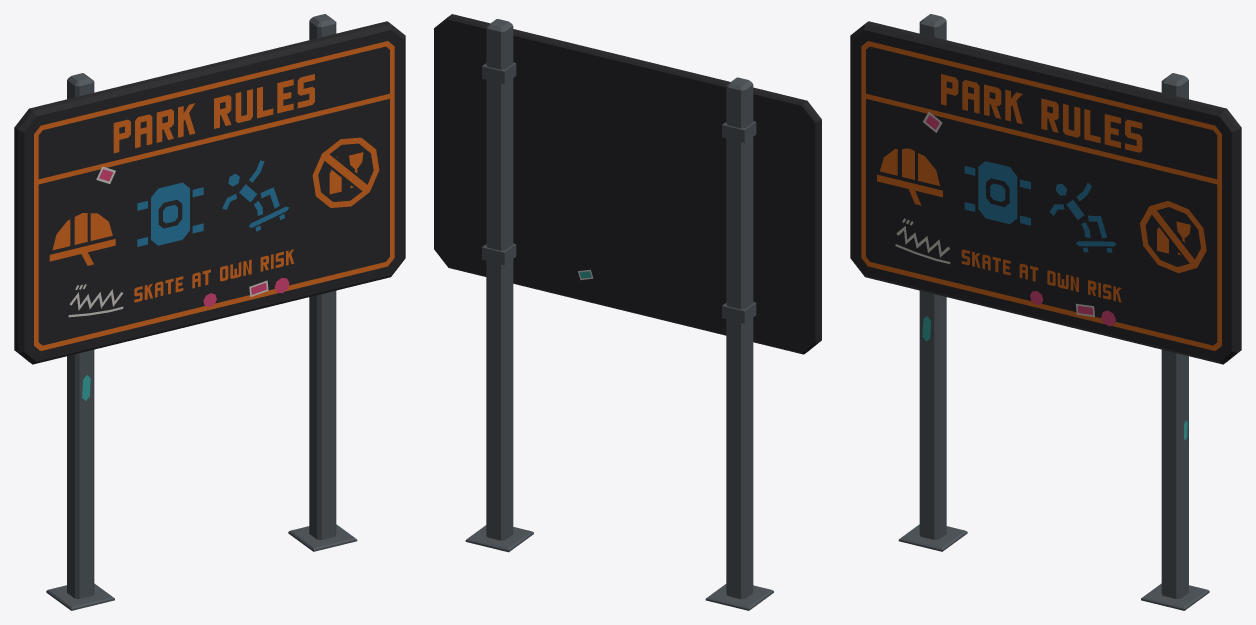
File: skatepark-rules-board-e16034.glb
3 renders of one model, left to right at view 1: azimuth 30°, elevation 25°; view 2: azimuth 150°, elevation 25°; view 3: azimuth 330°, elevation 25°, orthographic.
Parts seen in each view (by area): view 1: rules-board; view 2: rules-board; view 3: rules-board.
Part boxes in pixels (<box>): rules-board: <box>14,14,405,610</box>; rules-board: <box>434,14,821,610</box>; rules-board: <box>850,14,1241,610</box>.
Size of the model in its own units: 1.6 by 2.05 by 0.183.
